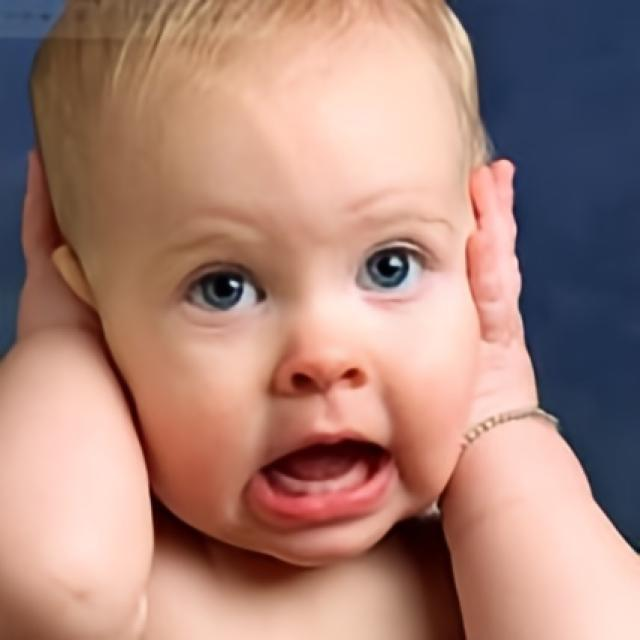fear: (31, 41, 488, 568)
